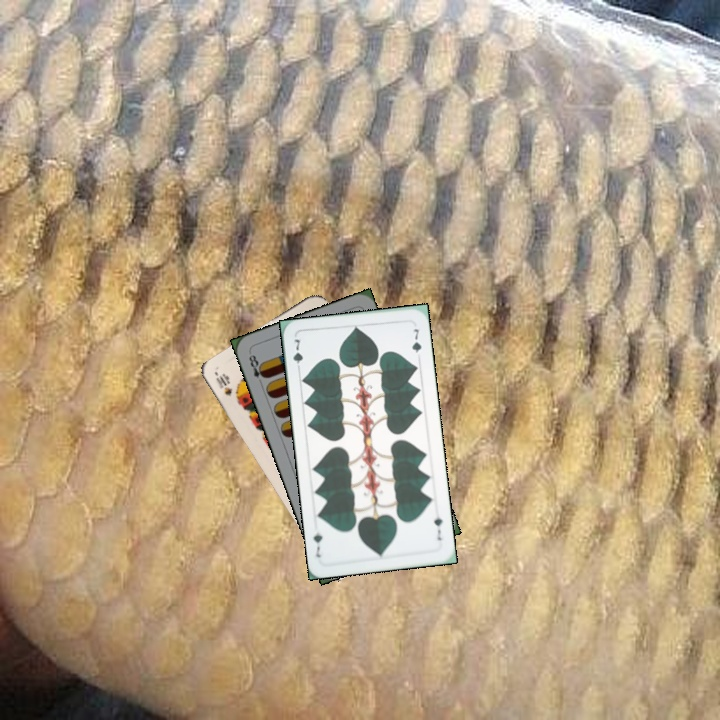E8: (245, 351, 269, 388)
G7: (289, 335, 306, 375), (430, 507, 445, 543)
S10: (212, 369, 235, 399)
